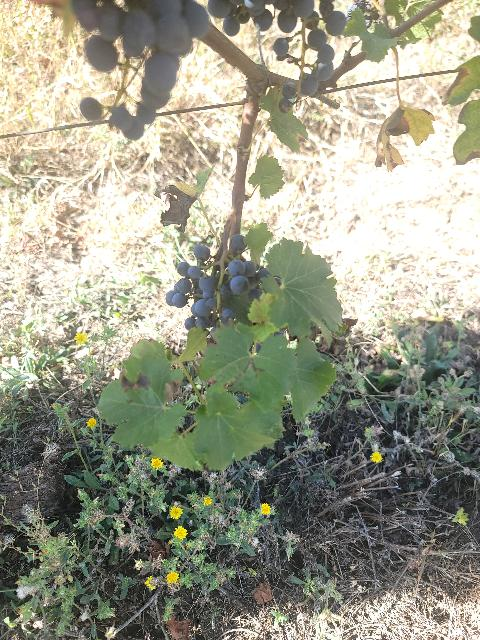grapes: (71, 0, 209, 140), (165, 245, 270, 329)
